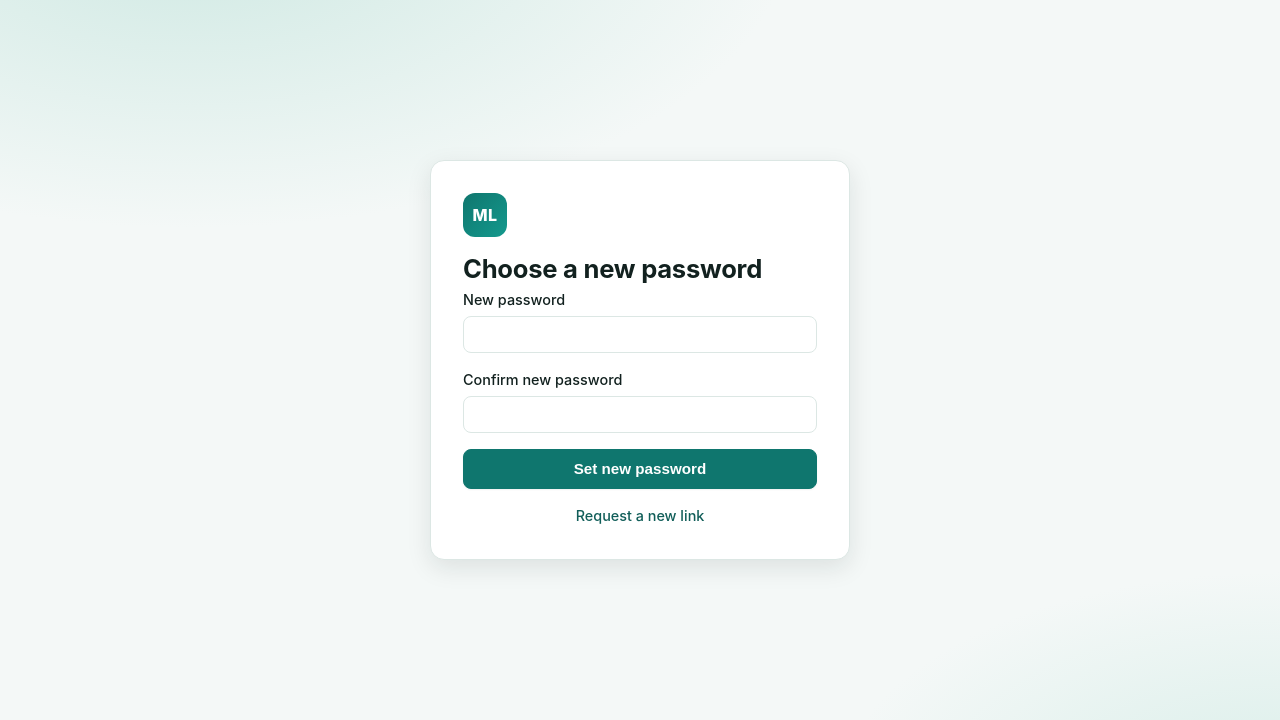
it: ResetPassword › shows the server's message when the link has expired
Type "BrandNew123" into the password field labelled "New password" at (640, 335), box [463,316,817,353]
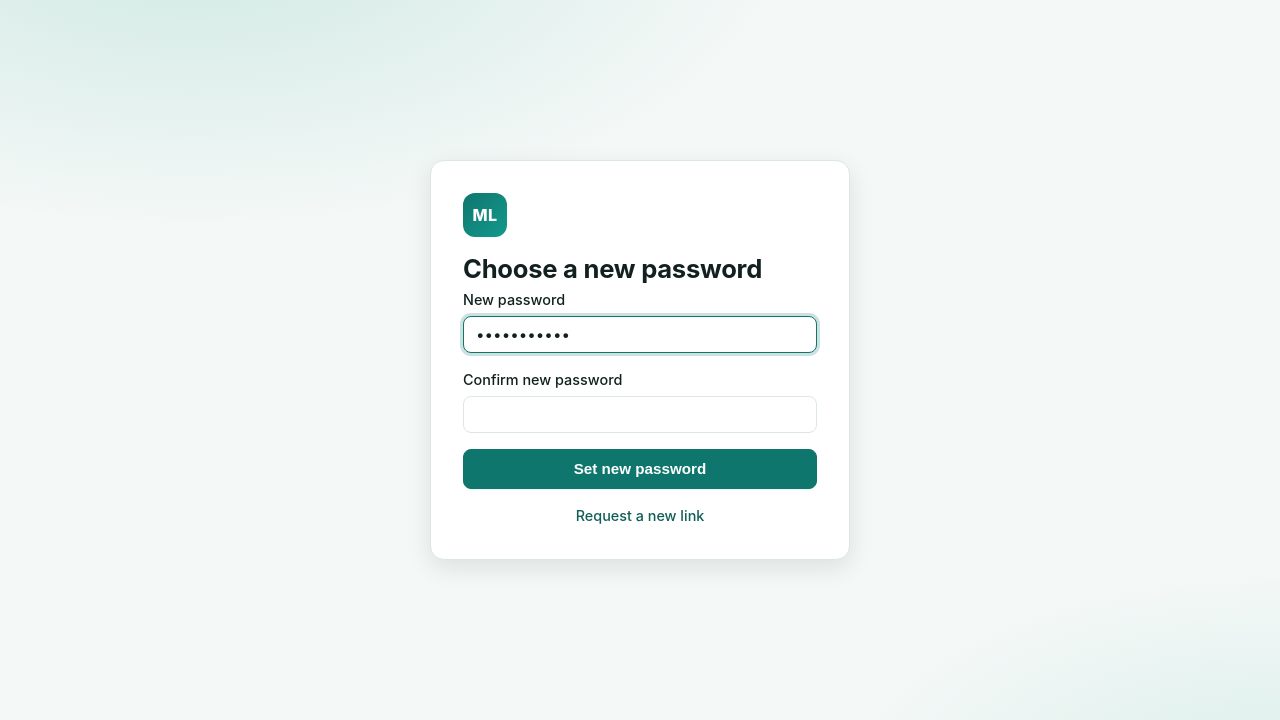
Type "BrandNew123" into the password field labelled "Confirm new password" at (640, 415), box [463,396,817,433]
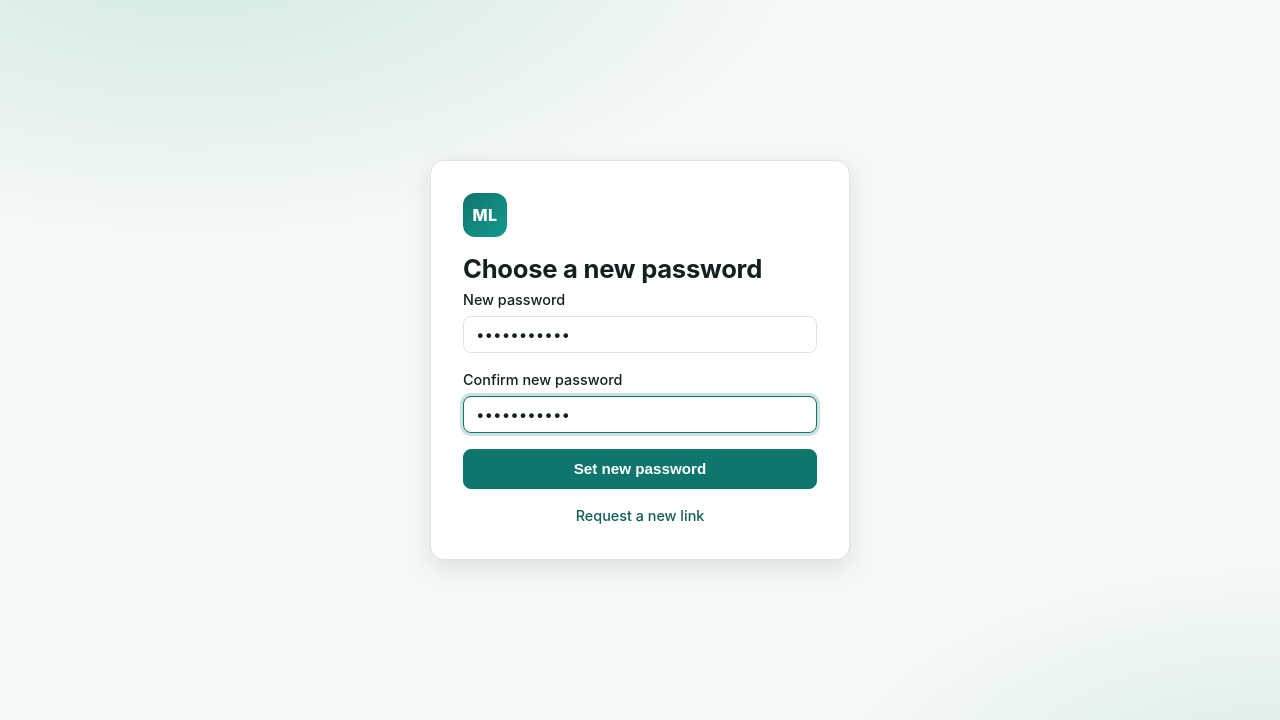
Click the button "Set new password" at (640, 469), box [463,449,817,489]
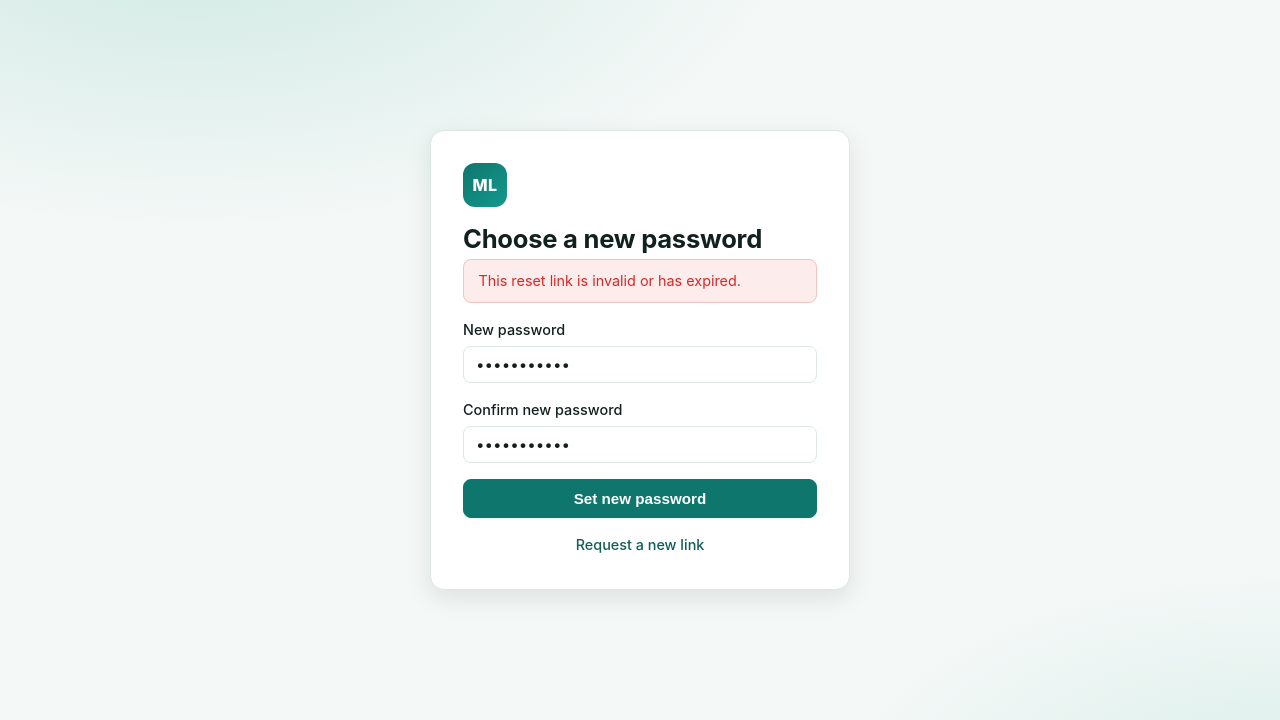
Check: the text "This reset link is invalid or has expired." is shown, box [463,259,817,303]
